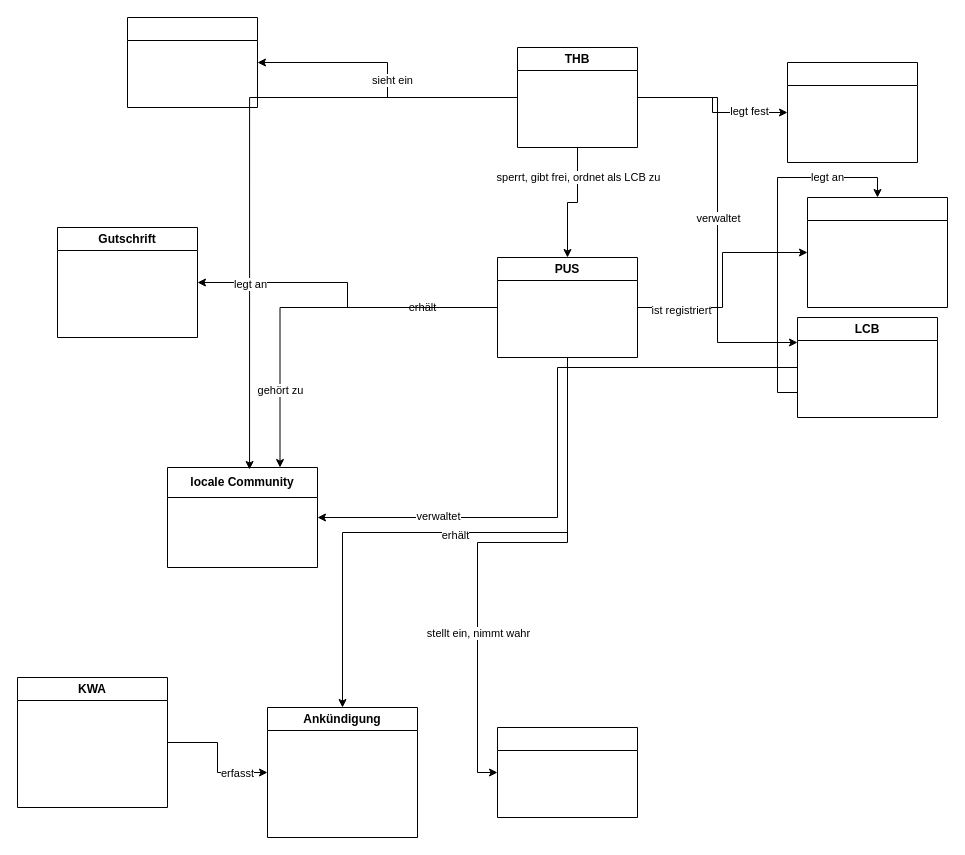
The diagram is 965 pixels wide and 855 high, and some of its shapes have lost their labels. Here are the shapes that lost their labels. From the top down, the box of each, then its label:
(126, 16, 258, 108): Dashboard
(786, 62, 918, 162): THMCoin
(806, 196, 948, 308): Event
(496, 726, 638, 818): Wettanfrage
